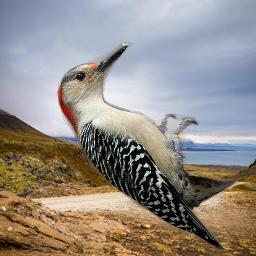Woodpecker: (56, 42, 237, 251)
